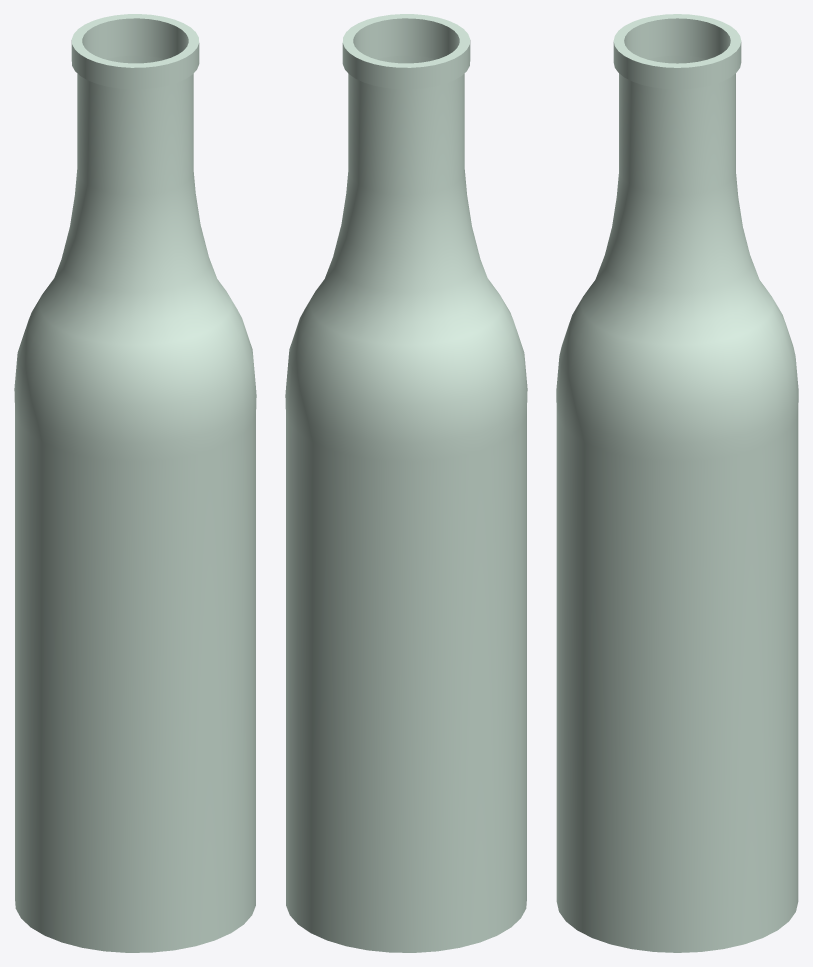
File: Bottle.fbx
3 renders of one model, left to right at view 1: azimuth 30°, elevation 25°; view 2: azimuth 150°, elevation 25°; view 3: azimuth 270°, elevation 25°, orthographic.
Visible parts, largest first — view 1: Bottle; view 2: Bottle; view 3: Bottle.
Part boxes in pixels (bbox=[...]): Bottle: bbox=[14, 14, 256, 952]; Bottle: bbox=[285, 14, 527, 952]; Bottle: bbox=[556, 14, 798, 952].
Bounding box in the file's own units: 18.4 × 72.04 × 18.4.
